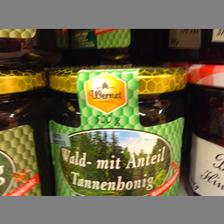Honig: (44, 66, 184, 198)
